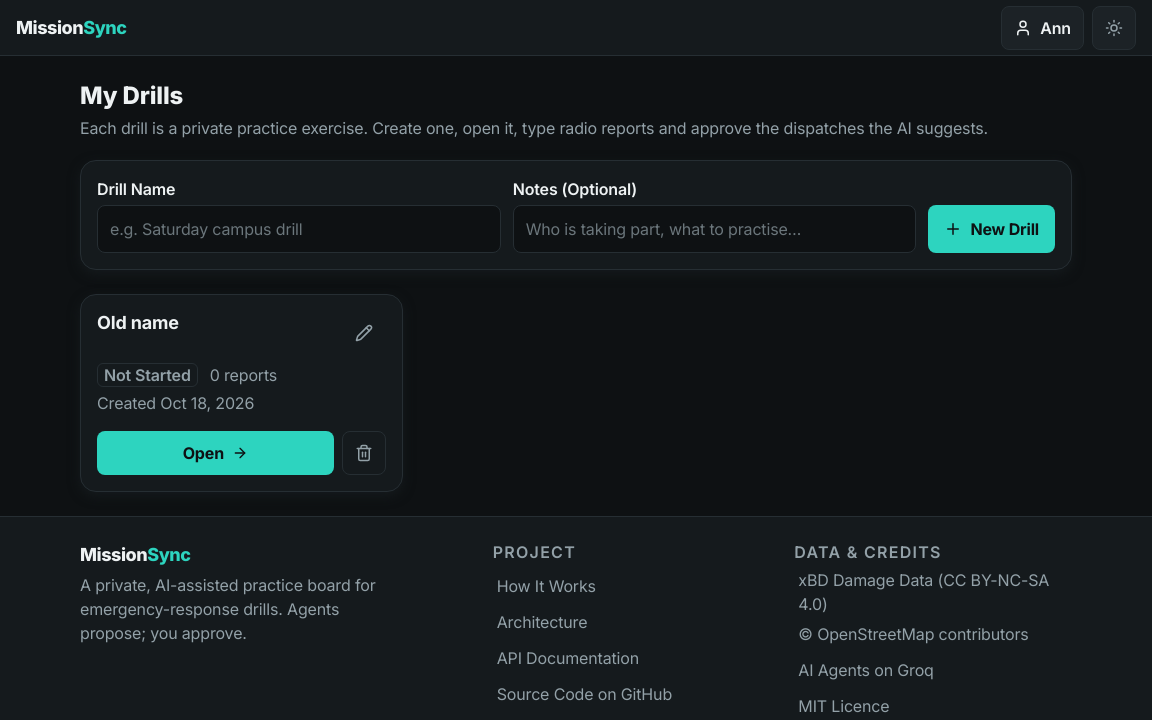
it: My Drills — create, read, update, delete with optimistic UI › update: renaming shows at once and is saved
Click the button named "Rename Old name" at (364, 333), box [342,311,386,355]
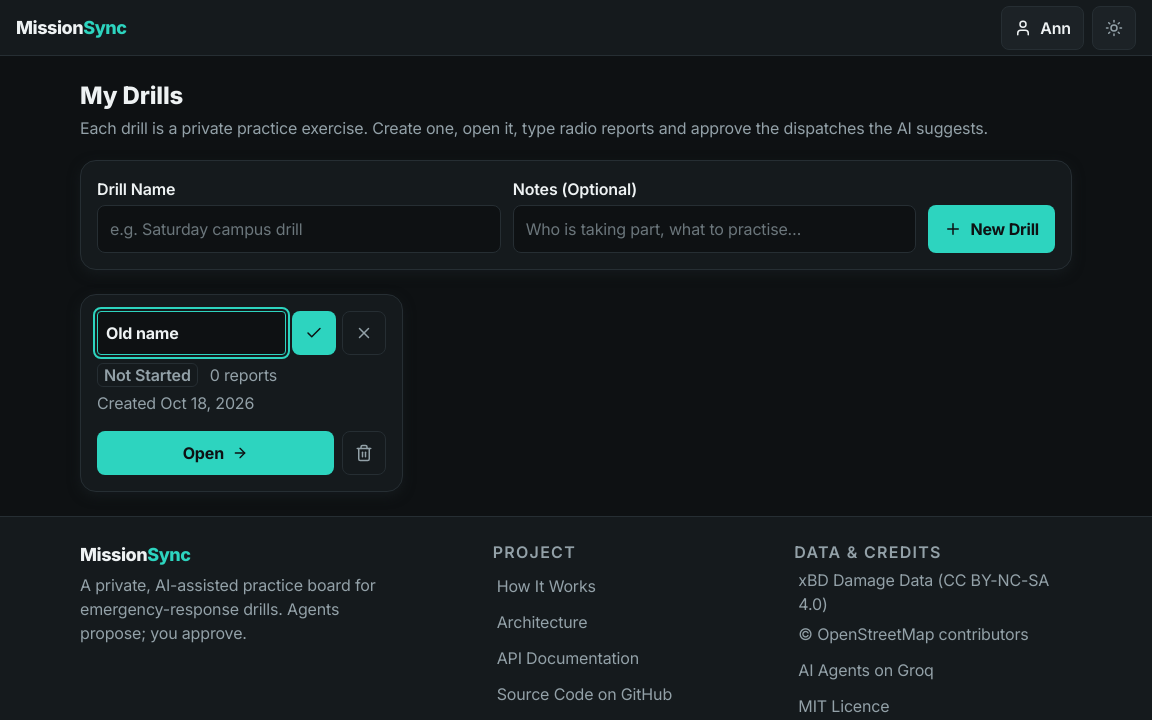
Replace the text in the field named "New name for" with "New name" at (191, 333), box [97,311,286,355]
Then press Enter
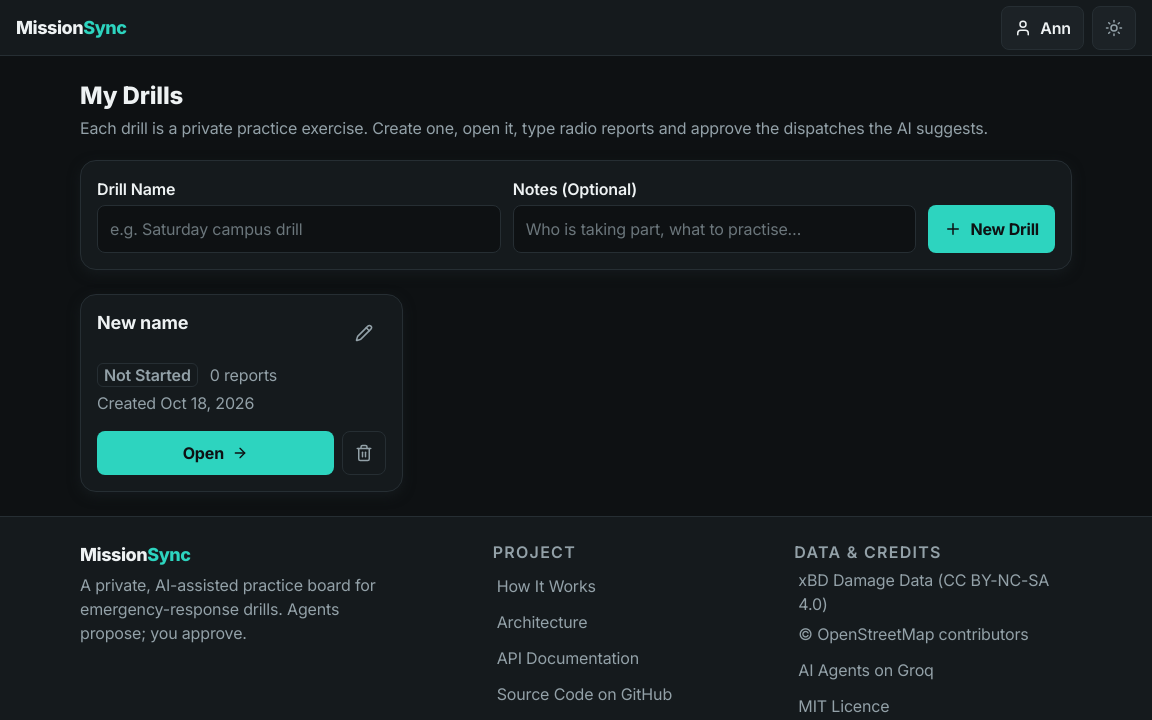
Expected: the heading "New name" is shown, [97,312,188,333]
